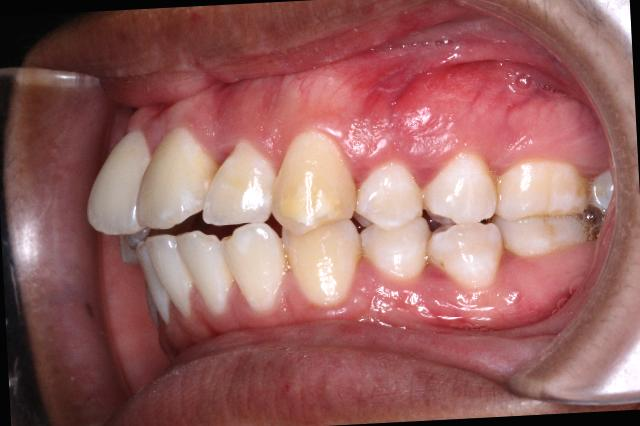canine class II 3/4: (264, 121, 435, 314)
molar class II 3/4: (489, 153, 602, 271)
